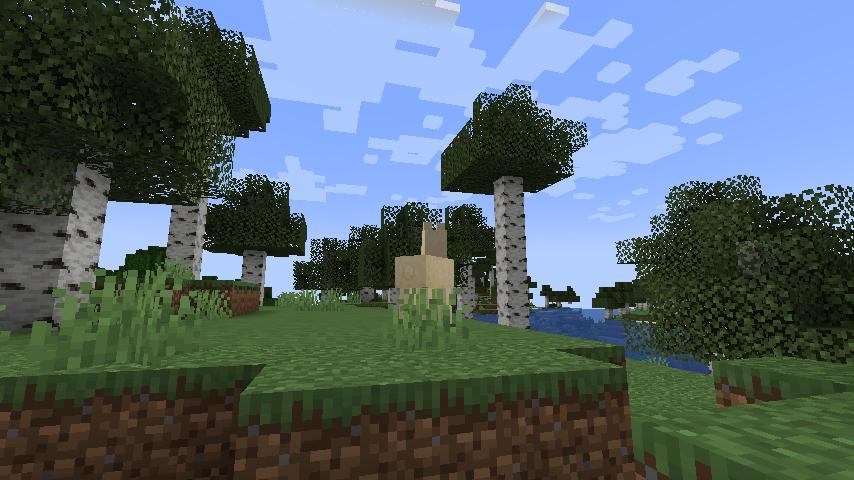llama: (393, 220, 459, 316)
